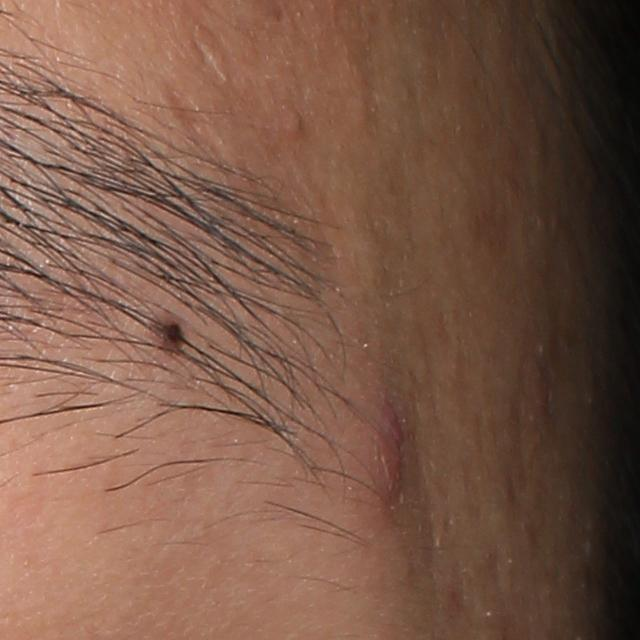nevus: (147, 308, 191, 357)
papule: (374, 396, 409, 497)
